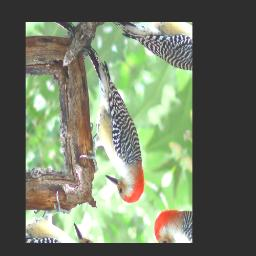Woodpecker: (42, 39, 178, 219)
